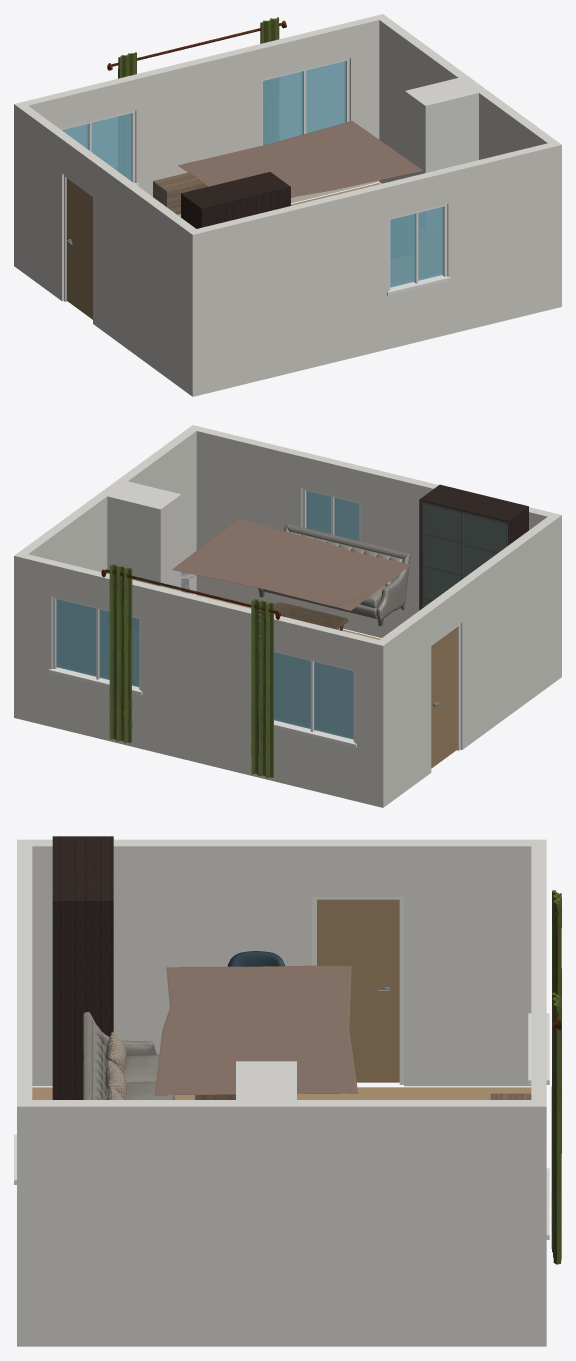
Rendered from layoutgpt.glb.
3 views of the same model, one above another, from view 1: azimuth 30°, elevation 25°; view 2: azimuth 150°, elevation 25°; view 3: azimuth 270°, elevation 25° (orthographic). The views are drawn at different scales.
Parts seen in each view (by area): view 1: wall|scenesmith_043__R00|0, wall|scenesmith_043__R00|2, wall|scenesmith_043__R00|1, wall|scenesmith_043__R00|3, furniture_group, wall|scenesmith_043__R00|1 Window 0 | glazing, scenesmith_043__R00_6 | structural enclosure, raw_model.005, wall|scenesmith_043__R00|0 Window 0 | glazing, wall|scenesmith_043__R00|2 Door 0 | wood leaf, wall|scenesmith_043__R00|1 Window 0 | jamb, wall|scenesmith_043__R00|0 Window 0 | jamb (+2 smaller); view 2: wall|scenesmith_043__R00|1, wall|scenesmith_043__R00|2, wall|scenesmith_043__R00|0, furniture_group, wall|scenesmith_043__R00|1 Window 0 | glazing, scenesmith_043__R00_9, raw_model.005, wall|scenesmith_043__R00|3, scenesmith_043__R00_6 | structural enclosure, wall|scenesmith_043__R00|2 Door 0 | wood leaf, raw_model, wall|scenesmith_043__R00|1 Window 0 | jamb (+4 smaller); view 3: wall|scenesmith_043__R00|3, wall|scenesmith_043__R00|2, furniture_group, raw_model.005, wall|scenesmith_043__R00|2 Door 0 | wood leaf, wall|scenesmith_043__R00|1, raw_model, wall|scenesmith_043__R00|0, scenesmith_043__R00_9, floor, scenesmith_043__R00_6 | structural enclosure, wall|scenesmith_043__R00|2 Door 0 | jamb (+2 smaller).
Part boxes in pixels (x1,y1,x2,y2): wall|scenesmith_043__R00|0: (197, 141, 561, 394); wall|scenesmith_043__R00|2: (14, 102, 201, 396); wall|scenesmith_043__R00|1: (14, 14, 387, 268); wall|scenesmith_043__R00|3: (379, 18, 561, 308); furniture_group: (178, 121, 422, 197); wall|scenesmith_043__R00|1 Window 0 | glazing: (62, 61, 345, 180); scenesmith_043__R00_6 | structural enclosure: (405, 76, 484, 177); raw_model.005: (181, 172, 290, 228); wall|scenesmith_043__R00|0 Window 0 | glazing: (390, 207, 443, 287); wall|scenesmith_043__R00|2 Door 0 | wood leaf: (66, 178, 92, 319); wall|scenesmith_043__R00|1 Window 0 | jamb: (60, 58, 349, 186); wall|scenesmith_043__R00|0 Window 0 | jamb: (387, 204, 450, 295); wall|scenesmith_043__R00|1: (14, 552, 388, 807); wall|scenesmith_043__R00|2: (374, 513, 561, 807); wall|scenesmith_043__R00|0: (188, 425, 552, 637); furniture_group: (172, 518, 410, 610); wall|scenesmith_043__R00|1 Window 0 | glazing: (56, 599, 353, 739); scenesmith_043__R00_9: (101, 564, 280, 777); raw_model.005: (419, 484, 528, 610); wall|scenesmith_043__R00|3: (19, 425, 199, 594); scenesmith_043__R00_6 | structural enclosure: (101, 480, 181, 591); wall|scenesmith_043__R00|2 Door 0 | wood leaf: (431, 627, 457, 768); raw_model: (258, 524, 410, 626); wall|scenesmith_043__R00|1 Window 0 | jamb: (48, 596, 356, 747); wall|scenesmith_043__R00|3: (17, 1100, 546, 1346); wall|scenesmith_043__R00|2: (17, 839, 546, 1086); furniture_group: (154, 965, 358, 1095); raw_model.005: (52, 836, 113, 1099); wall|scenesmith_043__R00|2 Door 0 | wood leaf: (317, 899, 399, 1082); wall|scenesmith_043__R00|1: (531, 846, 546, 1305); raw_model: (83, 1012, 174, 1099); wall|scenesmith_043__R00|0: (17, 846, 32, 1106); scenesmith_043__R00_9: (551, 890, 561, 1264); floor: (32, 1087, 531, 1099); scenesmith_043__R00_6 | structural enclosure: (236, 1061, 296, 1104); wall|scenesmith_043__R00|2 Door 0 | jamb: (312, 897, 403, 1084).
Bounding box in the file's own units: 6.2 × 2.91 × 5.38.
16 materials, 8 textured.
